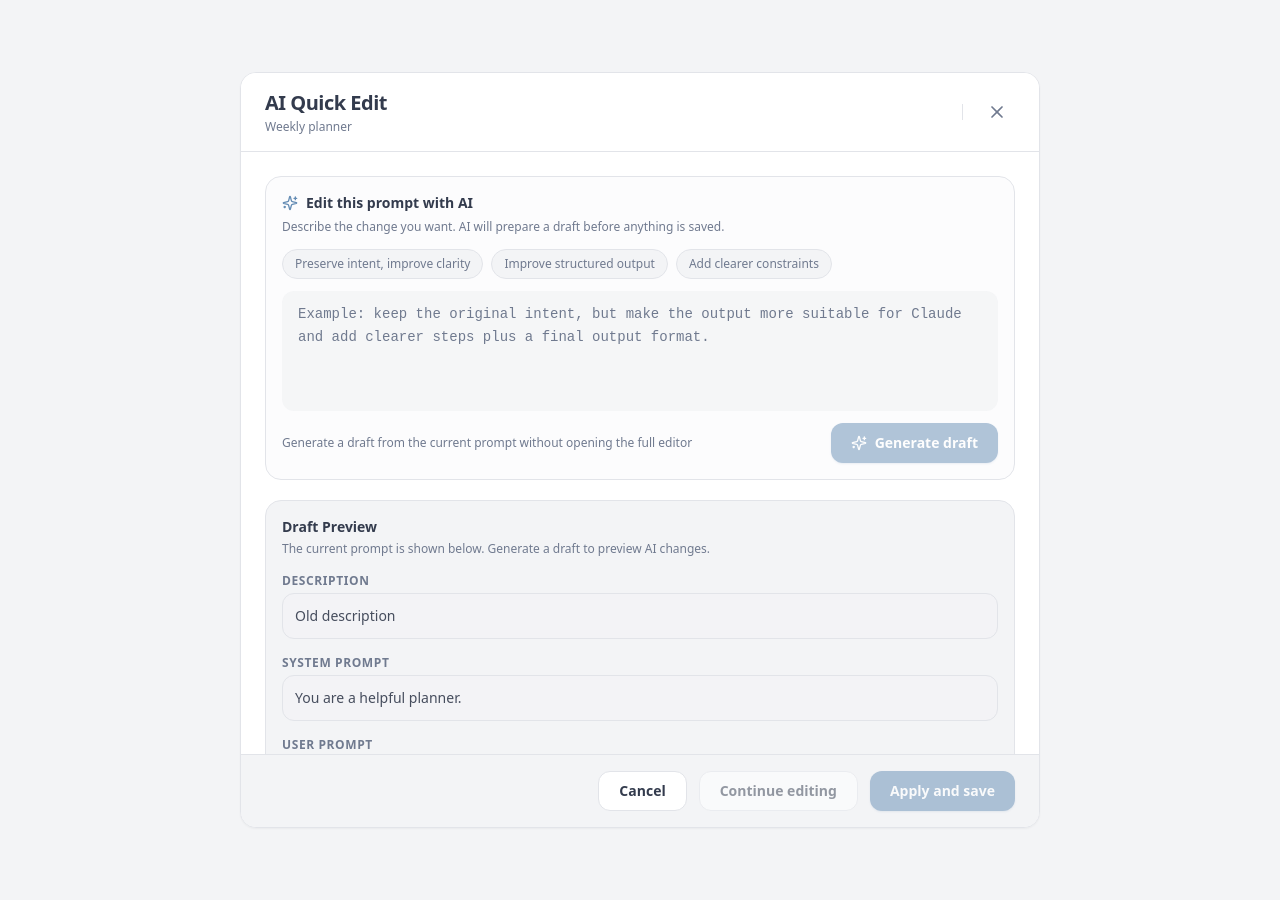
Test case: PromptQuickRewriteDialog › shows errors when AI rewrite response is invalid
This screenshot has width=1280, height=900.
Click the text box with placeholder "Example: keep the original intent, but make the output more suitable for Claude and add clearer steps plus a final outpu": click(640, 351) 282,291 -> 998,411
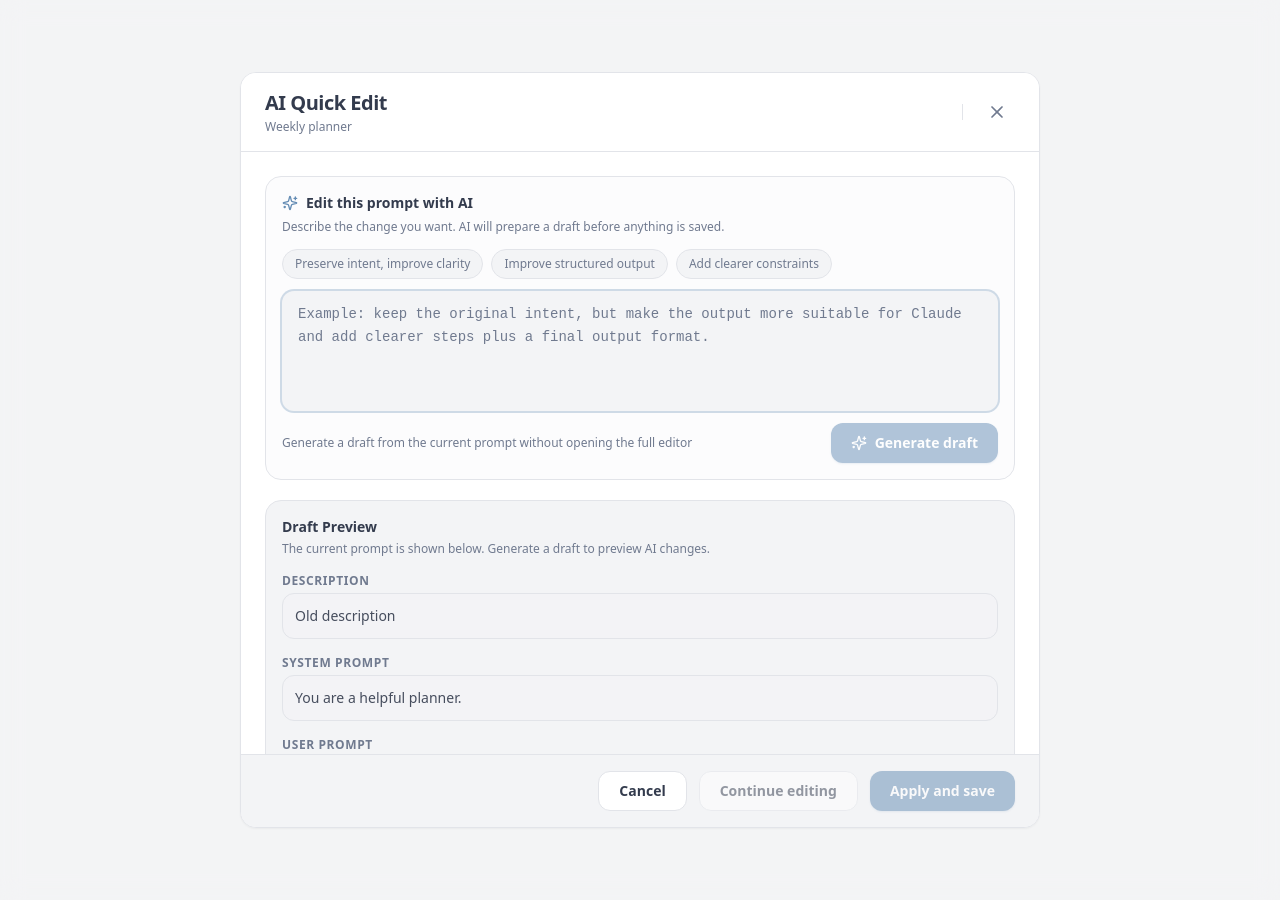
Type keys "Make it easier to scan."
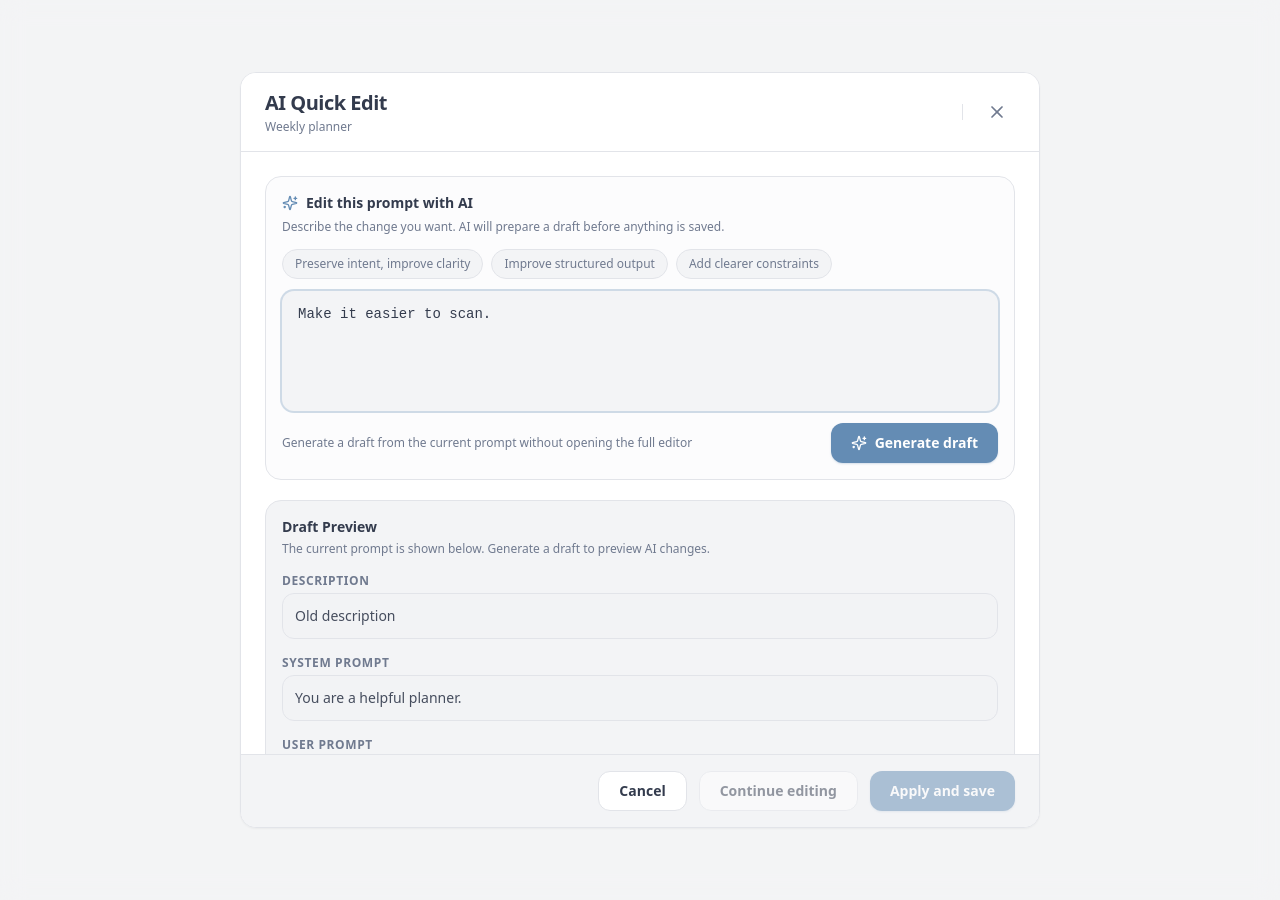
Click the button "Generate draft": click(914, 443) 831,423 -> 998,463
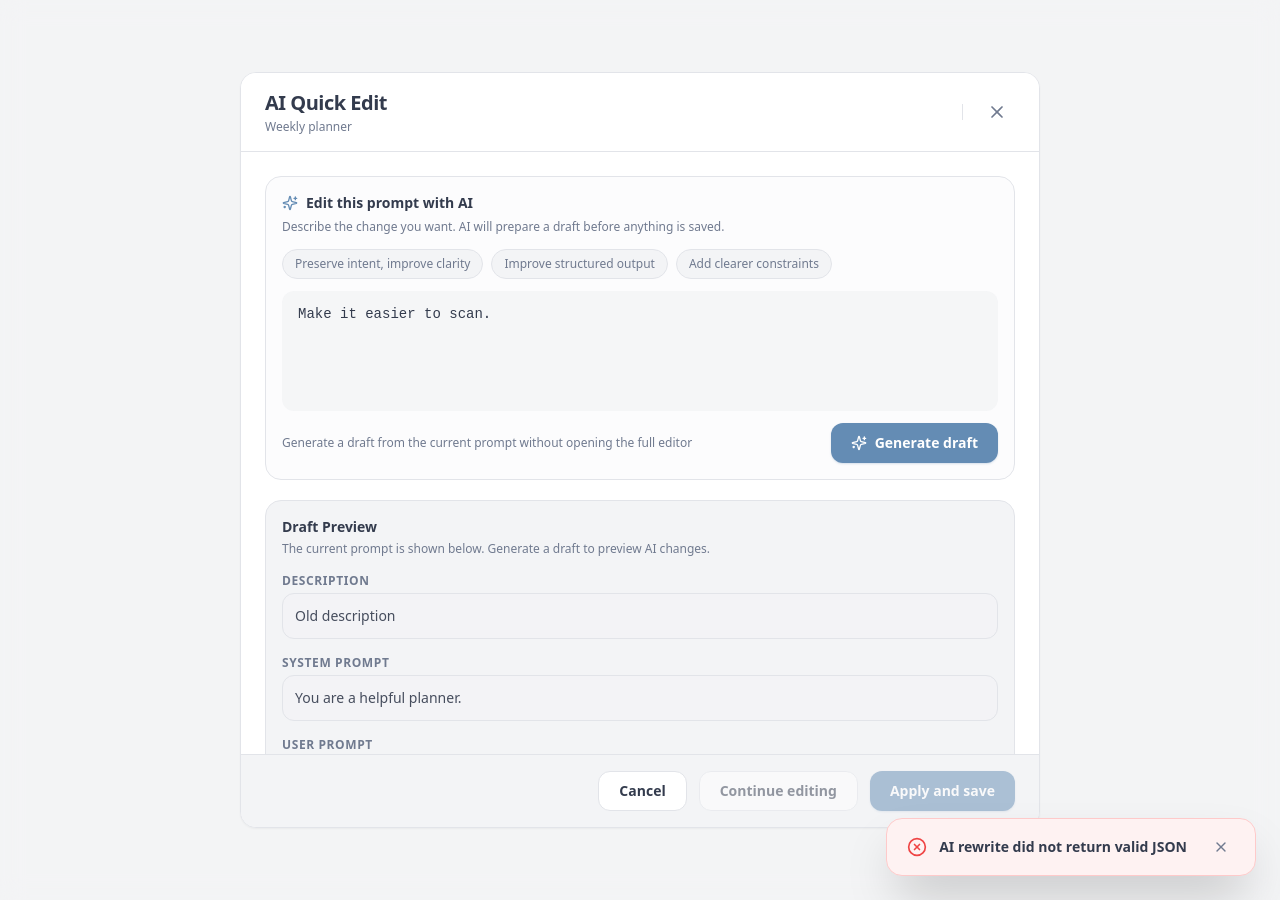
Expected: the text "AI rewrite did not return valid JSON" is shown, 939,837 -> 1187,857
